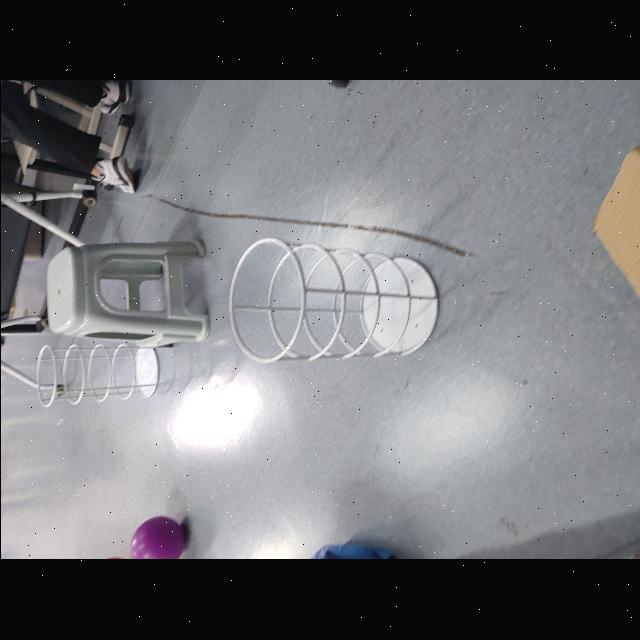S: (224, 235, 442, 368)
